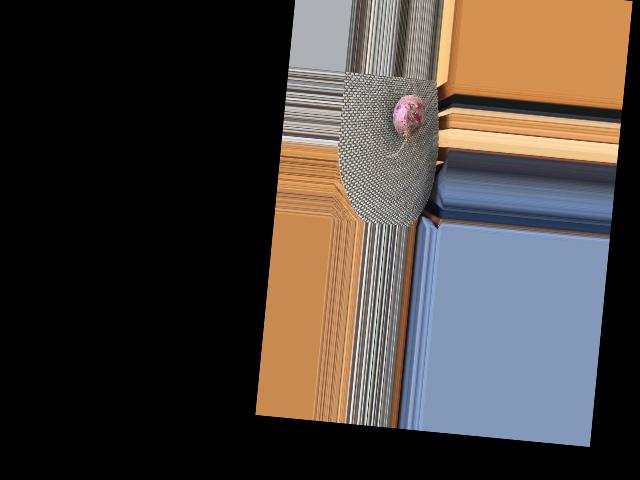beet: (385, 93, 427, 160)
